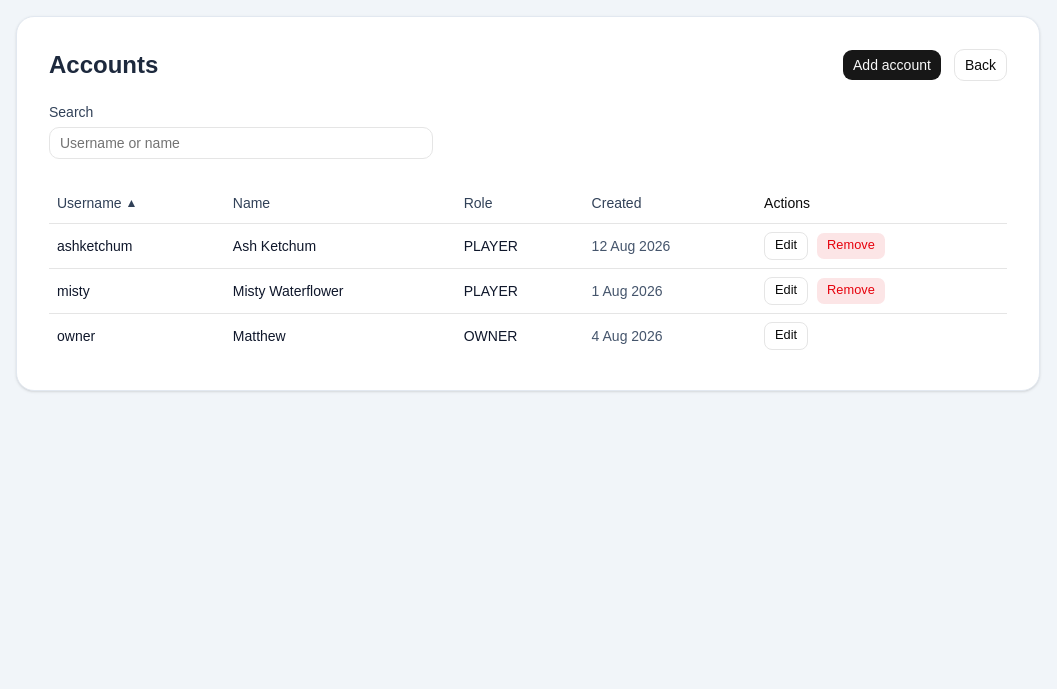
Scenario: AccountsPage › says the username is taken when the server refuses it, and adds nothing
expect the text "ashketchum" is shown: met, box 49,223 -> 225,268
Click the button "Add account". click: (892, 65)
box: 842,49 -> 942,81
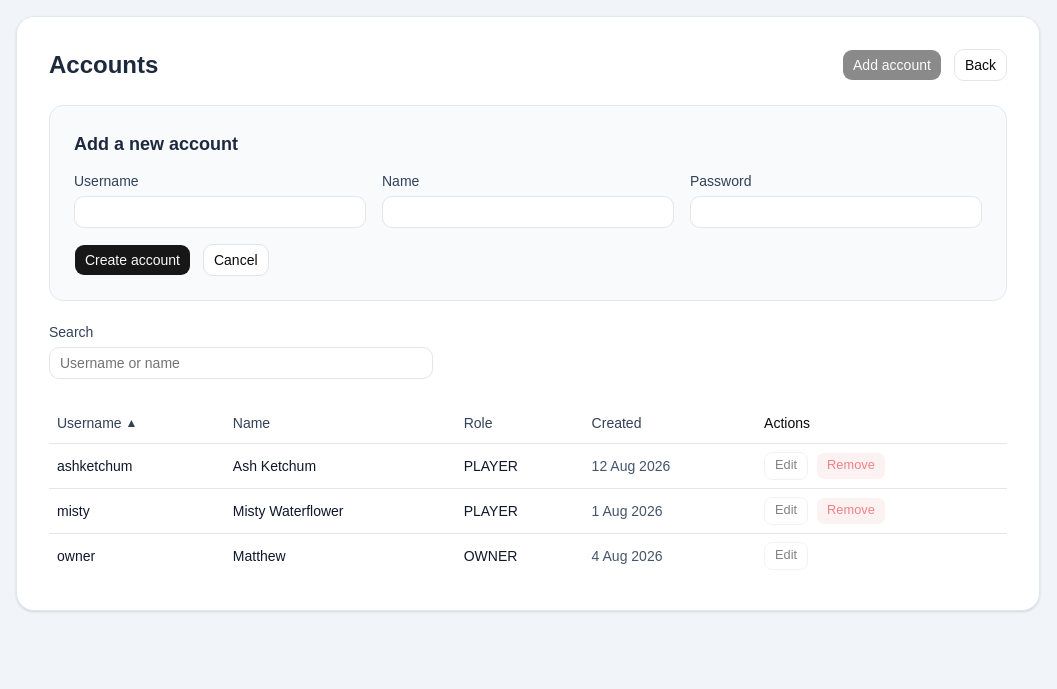
Type "misty" into the field labelled "Username". click: (220, 212)
box: 74,196 -> 366,228
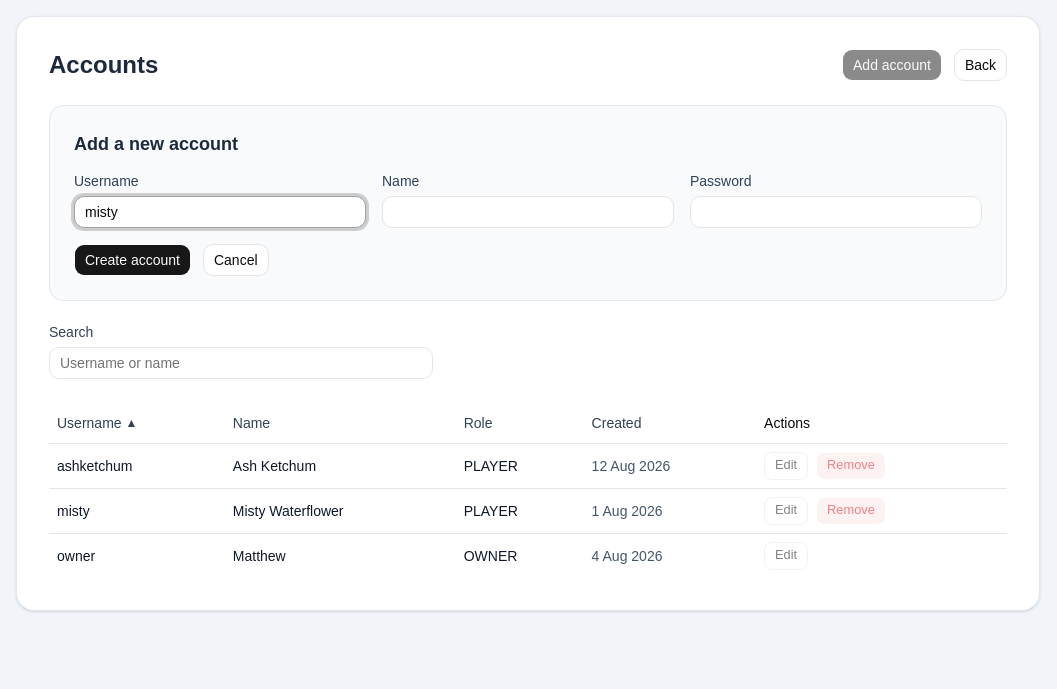
Type "Someone Else" into the field labelled "Name". click: (528, 212)
box: 382,196 -> 674,228
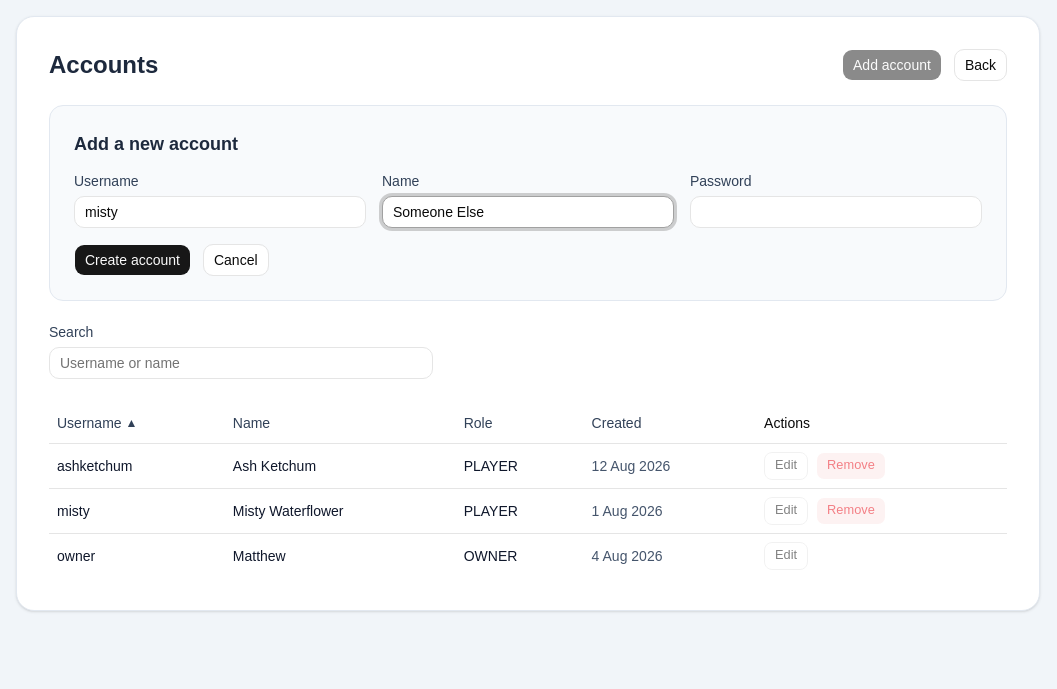
Type "waterrules1" into the password field labelled "Password". click: (836, 212)
box: 690,196 -> 982,228
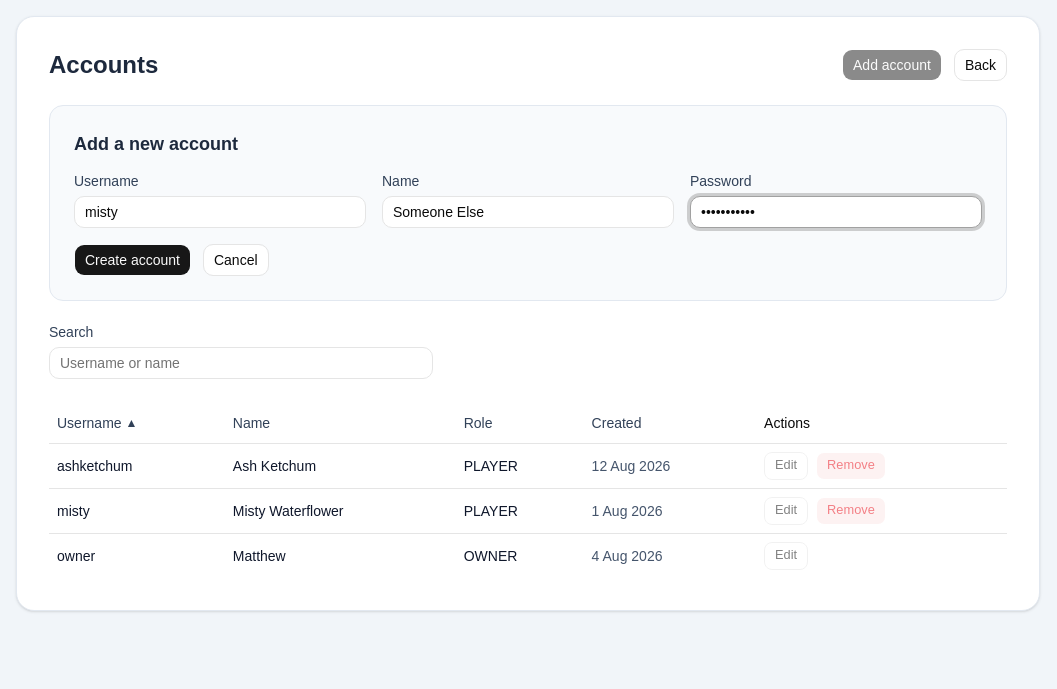
Click the button "Create account". click: (132, 260)
box: 74,244 -> 191,276
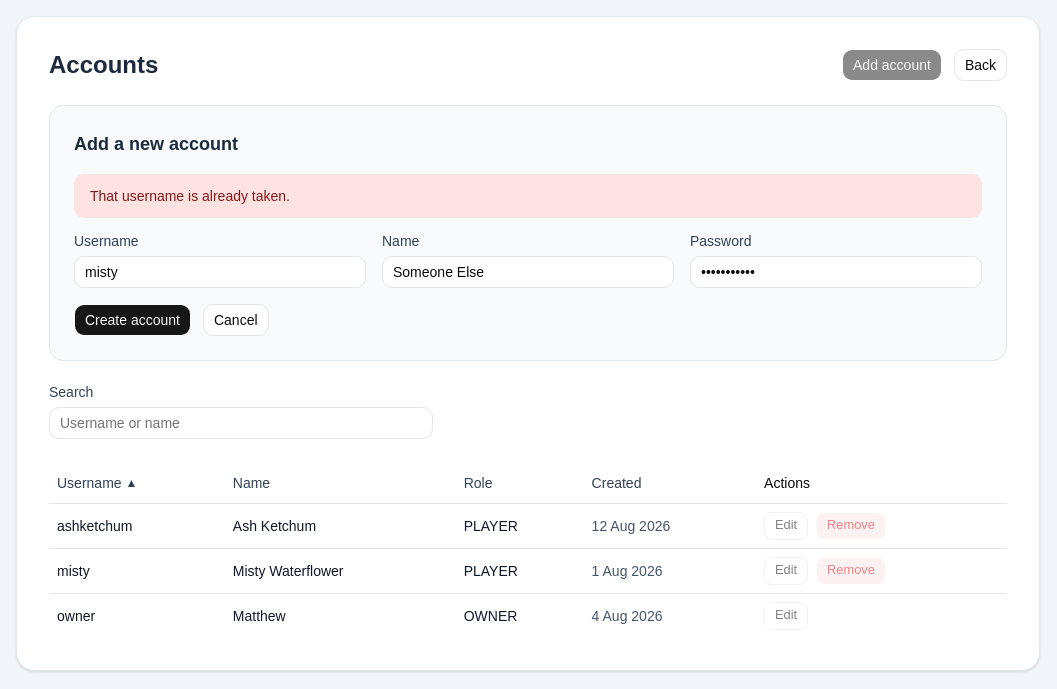
expect the message reads "That username is already taken.": met, box 90,188 -> 290,204
